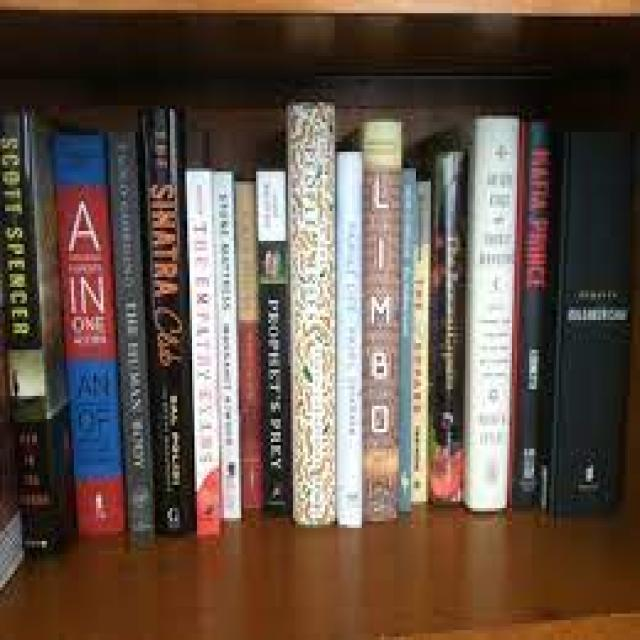book-spines: (553, 110, 631, 518), (51, 132, 123, 538), (138, 108, 194, 538), (0, 110, 53, 553), (287, 100, 335, 526), (469, 120, 519, 511), (108, 137, 153, 535), (511, 124, 555, 509), (363, 122, 401, 521), (430, 152, 468, 503), (186, 173, 219, 534), (256, 171, 289, 513), (213, 175, 239, 518), (337, 154, 361, 525), (234, 184, 261, 508), (409, 181, 431, 501), (400, 170, 414, 510)
